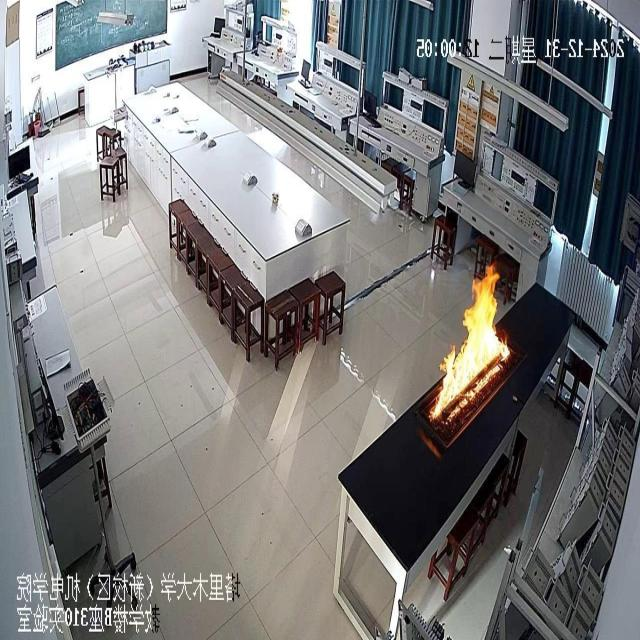fire: (426, 260, 514, 422)
